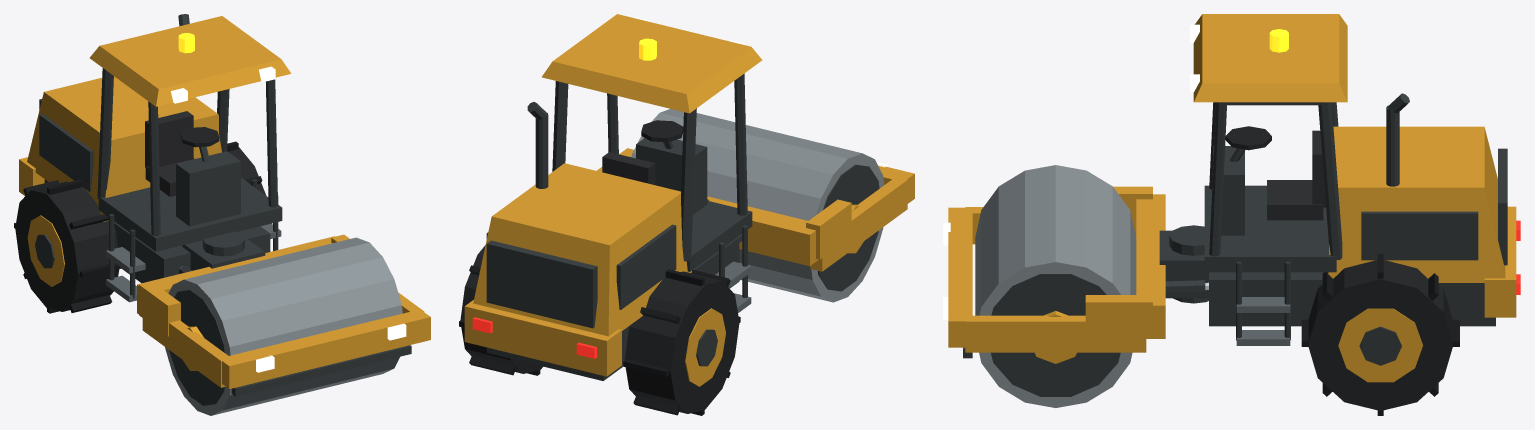
File: steam_roller.glb
3 renders of one model, left to right at view 1: azimuth 30°, elevation 25°; view 2: azimuth 150°, elevation 25°; view 3: azimuth 270°, elevation 25°, orthographic. The views are drawn at different scales.
Visible parts, largest first — view 1: Roller_Body, Roller_FrontDrum; view 2: Roller_Body, Roller_FrontDrum; view 3: Roller_Body, Roller_FrontDrum.
Boxes of the visible parts, box(x1,y1,x2,y2) form: Roller_Body: box(14, 14, 430, 396); Roller_FrontDrum: box(165, 237, 402, 415); Roller_Body: box(459, 14, 914, 415); Roller_FrontDrum: box(631, 109, 884, 302); Roller_Body: box(943, 14, 1520, 415); Roller_FrontDrum: box(975, 165, 1136, 407).
Size of the model in its own units: 2.24 by 2.98 by 4.72.
